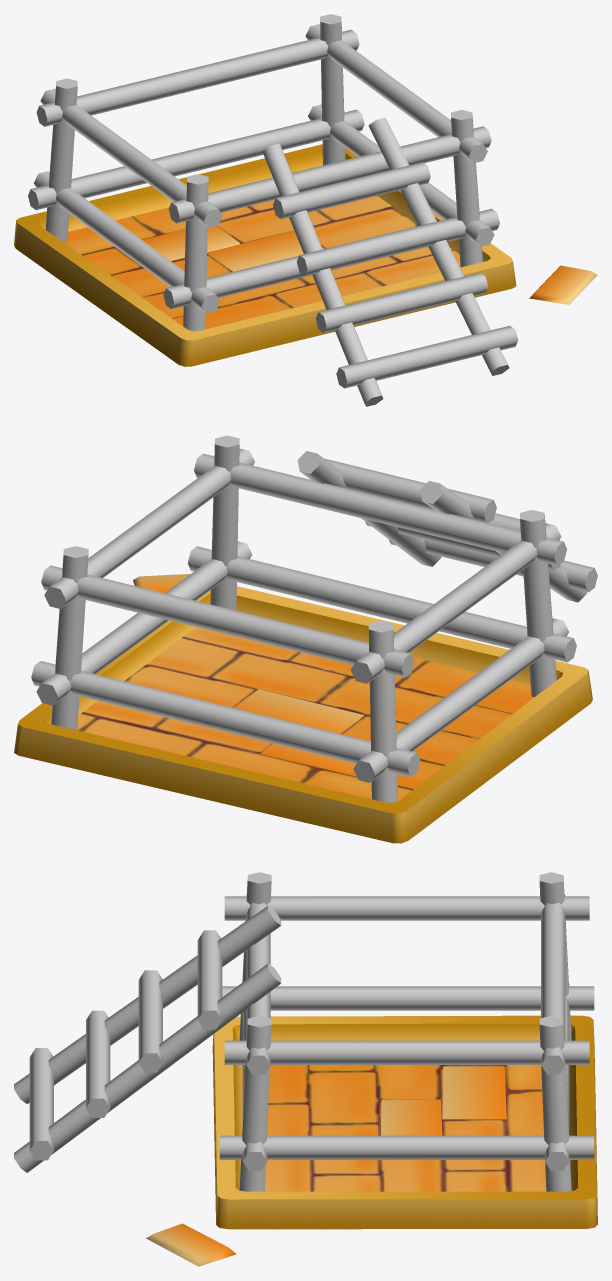
File: ArabianHouse_M_11.fbx
3 renders of one model, top to bottom at view 1: azimuth 30°, elevation 25°; view 2: azimuth 150°, elevation 25°; view 3: azimuth 270°, elevation 25°, orthographic. The views are drawn at different scales.
Parts seen in each view (by area): view 1: ArabianHouse_M_11; view 2: ArabianHouse_M_11; view 3: ArabianHouse_M_11.
Part boxes in pixels (<box>): ArabianHouse_M_11: <box>14,14,597,406</box>; ArabianHouse_M_11: <box>14,435,597,843</box>; ArabianHouse_M_11: <box>14,872,597,1266</box>.
Size of the model in its own units: 6.72 by 2.82 by 7.43.
